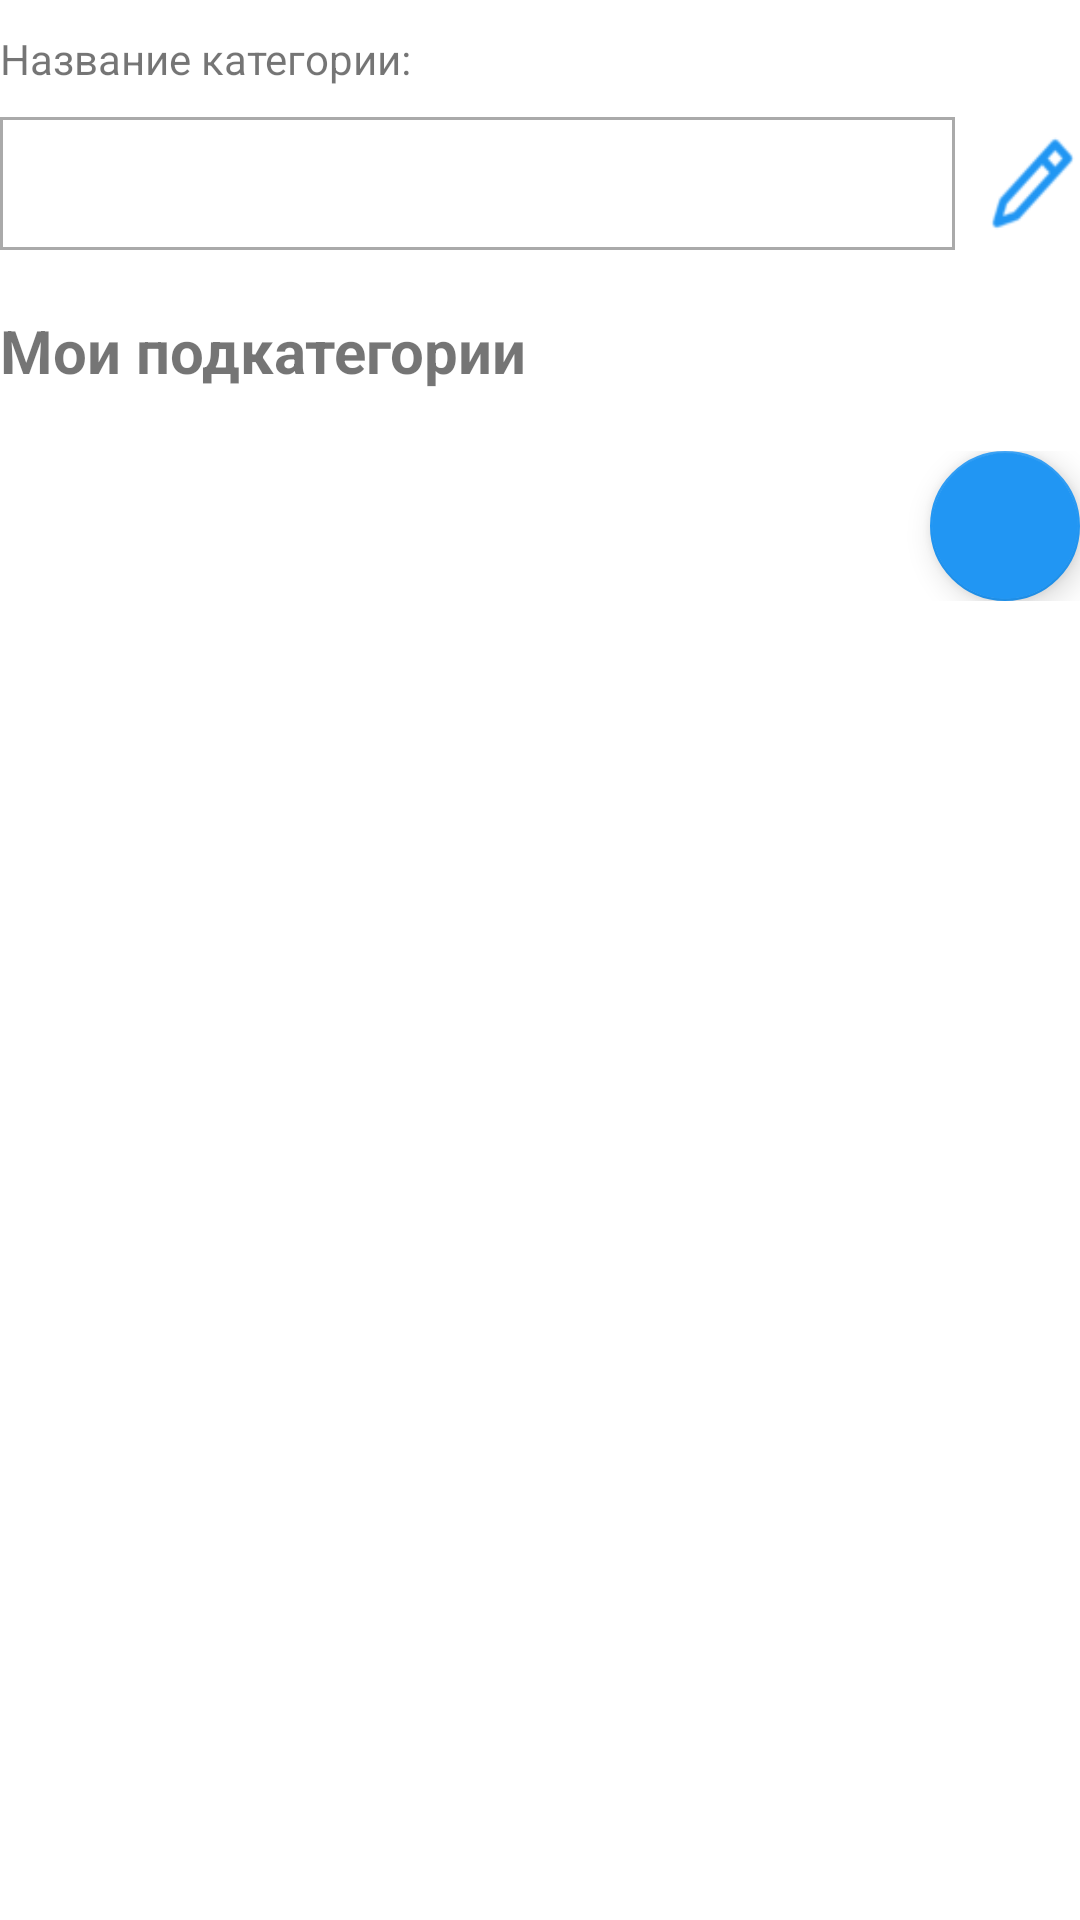

Locate icon controls on the screen. Image size 1080×1920, boxes as BBox(x1, y1, x2, y2).
edit: BBox(992, 139, 1073, 228)
